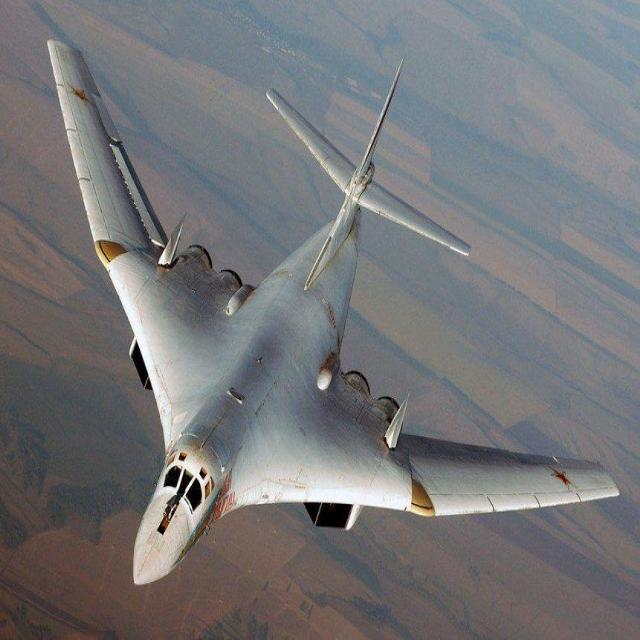Tu160: (32, 15, 633, 613)
